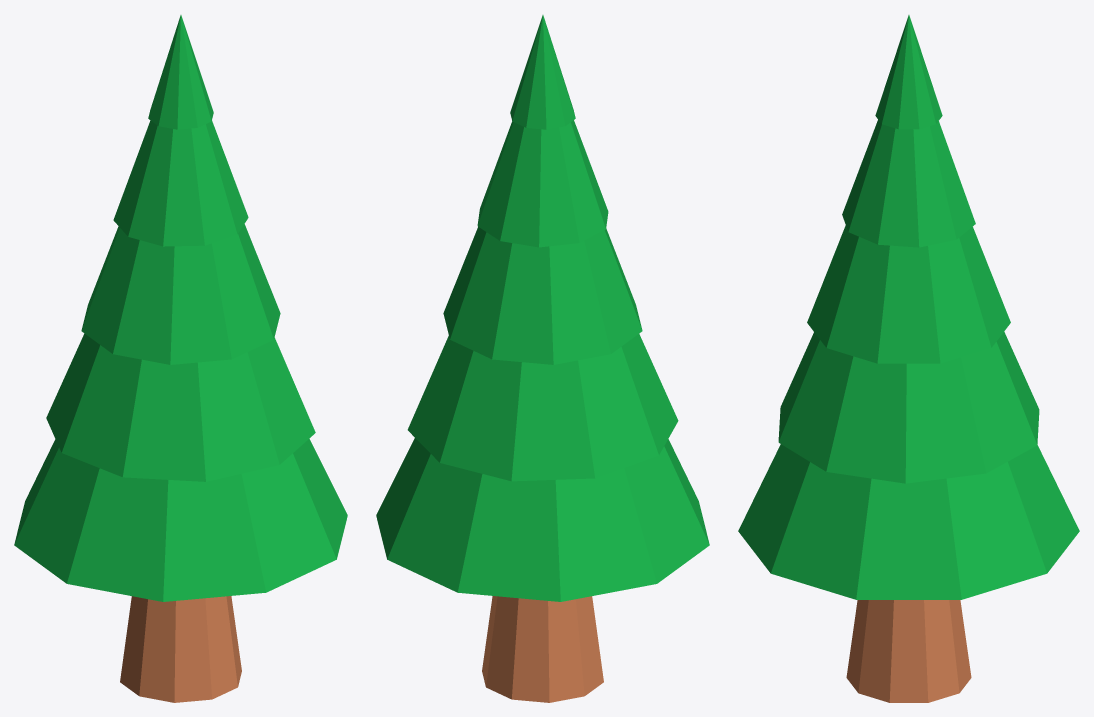
Rendered from Tree.fbx.
3 renders of one model, left to right at view 1: azimuth 30°, elevation 25°; view 2: azimuth 150°, elevation 25°; view 3: azimuth 270°, elevation 25°, orthographic.
Visible parts, largest first — view 1: Cylinder; view 2: Cylinder; view 3: Cylinder.
Boxes of the visible parts, <box> form: Cylinder: <box>14,15,347,702</box>; Cylinder: <box>376,15,709,702</box>; Cylinder: <box>738,15,1079,702</box>.
Size of the model in its own units: 190 by 429 by 200.
